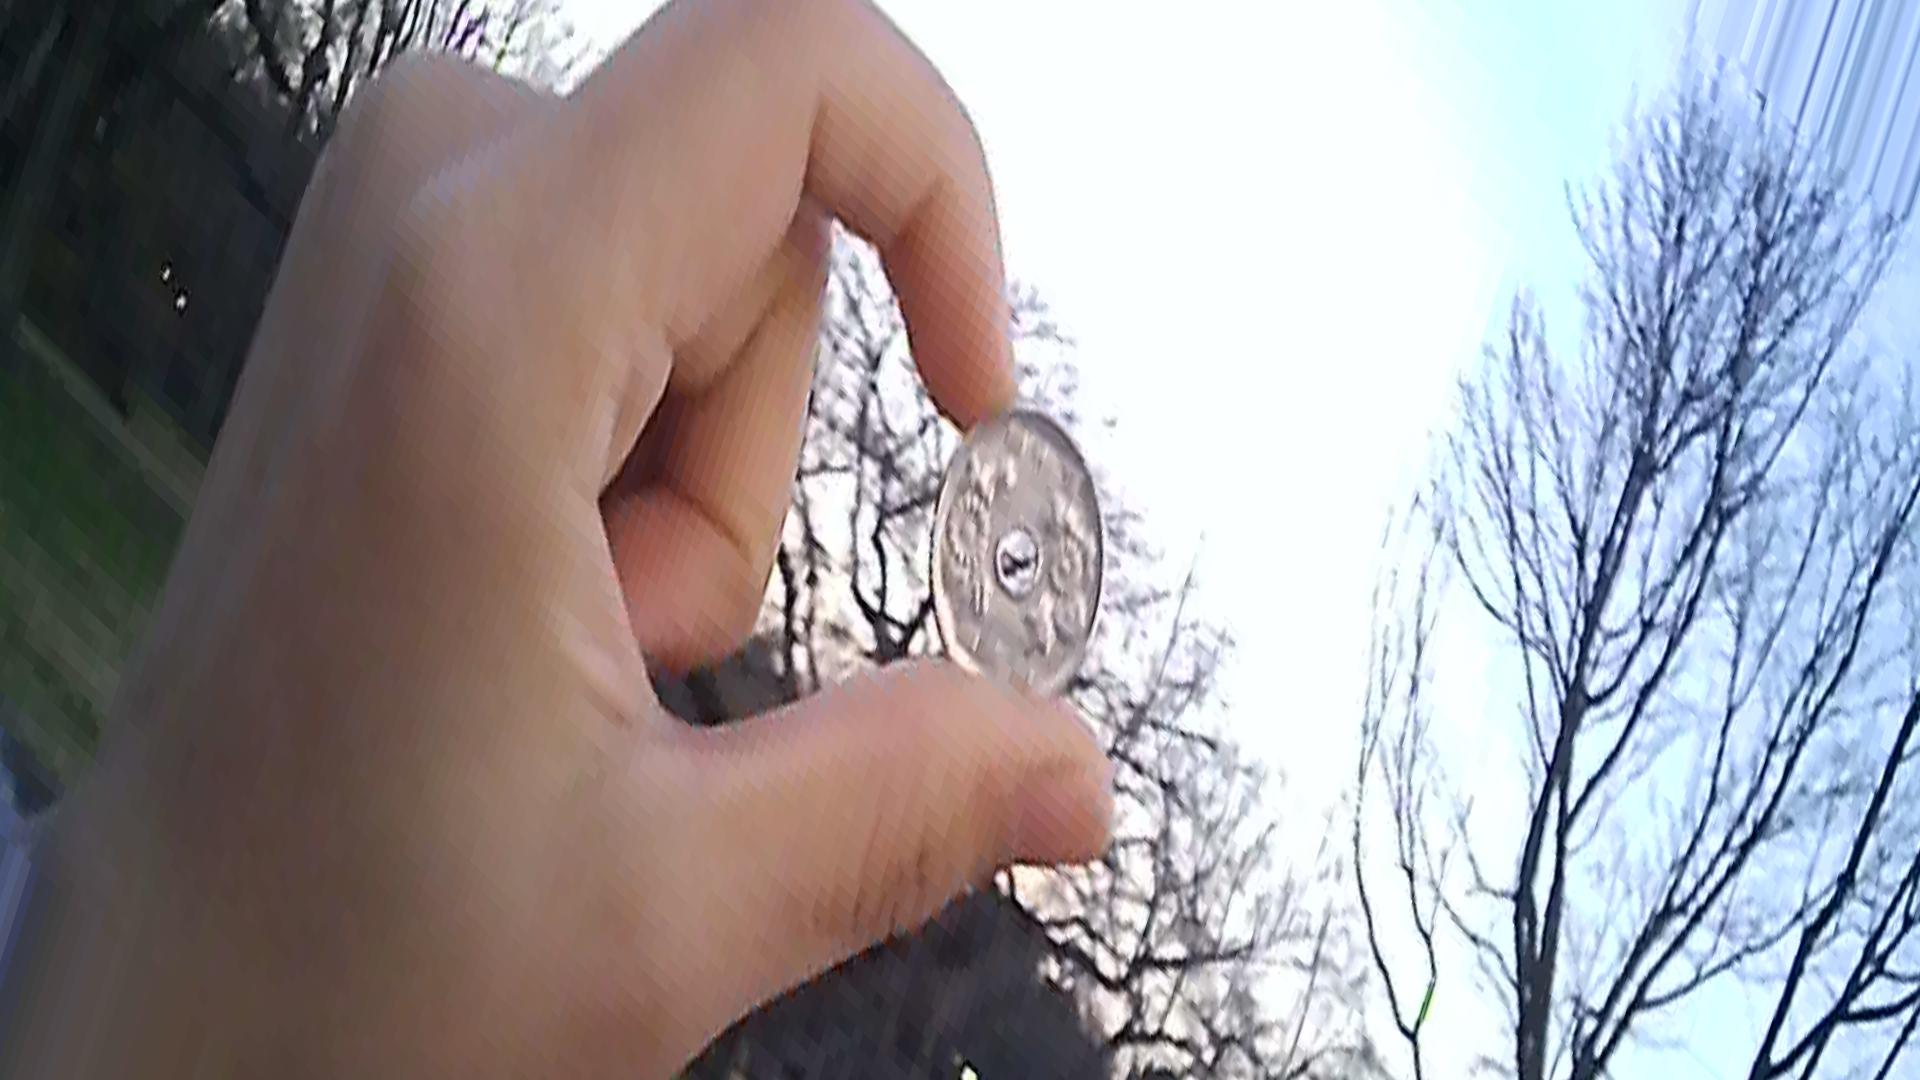50 Yen: (928, 406, 1127, 704)
